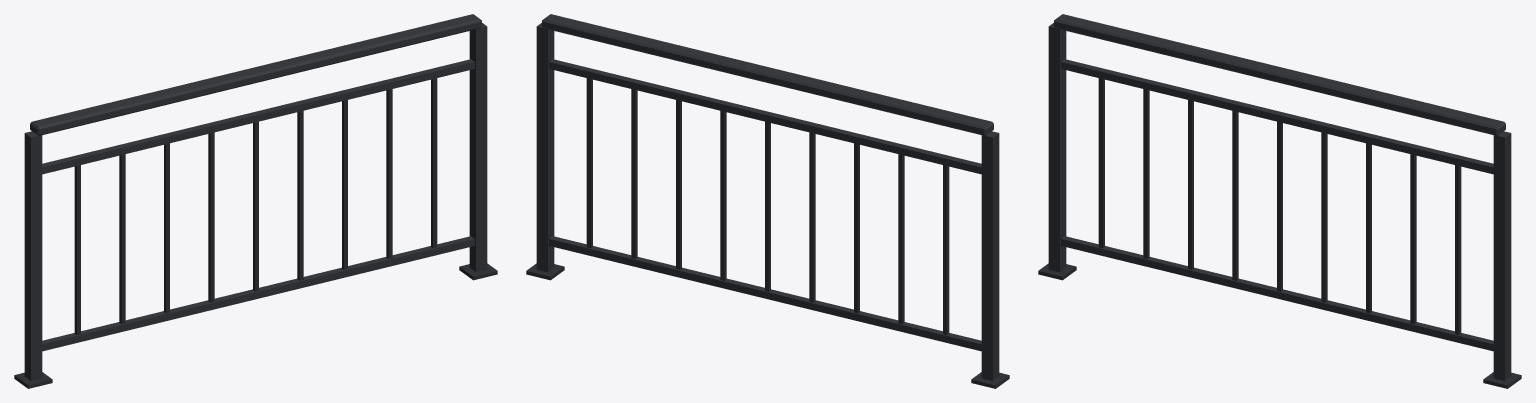
The model's file is fence_metal.glb.
The picture shows the model from 3 angles, left to right: view 1: azimuth 30°, elevation 25°; view 2: azimuth 150°, elevation 25°; view 3: azimuth 330°, elevation 25°; orthographic projection.
Visible parts, largest first — view 1: fence_metal__mesh; view 2: fence_metal__mesh; view 3: fence_metal__mesh.
Boxes of the visible parts, left/top/right/bottom form: fence_metal__mesh: left=14, top=14, right=497, bottom=388; fence_metal__mesh: left=526, top=14, right=1009, bottom=388; fence_metal__mesh: left=1038, top=14, right=1521, bottom=388.
Bounding box in the file's own units: 2.11 × 1.1 × 0.11.
1 material, 1 textured.
